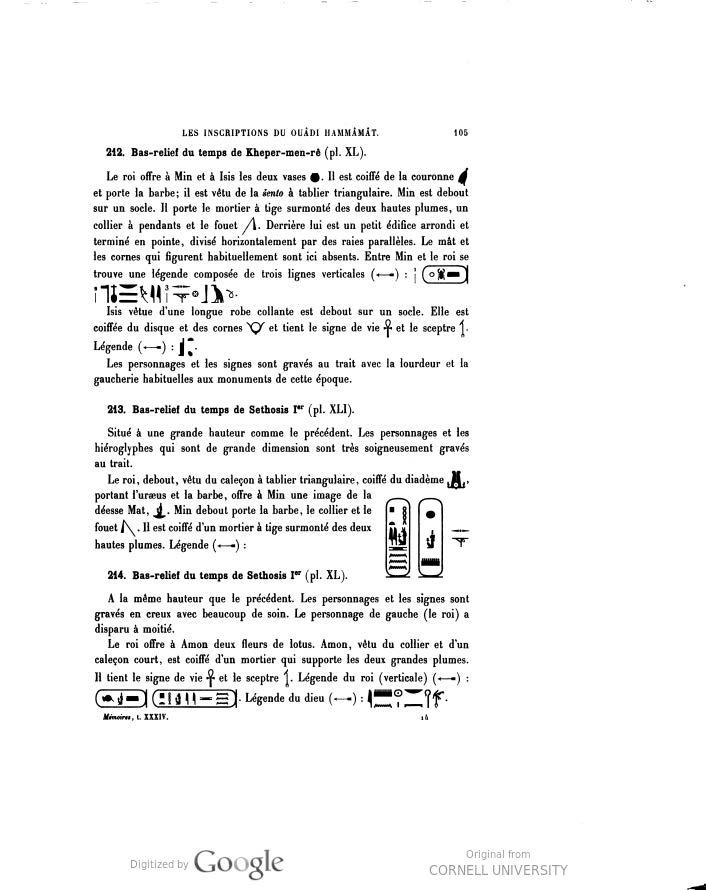circle: (148, 676, 250, 721), (416, 488, 446, 589), (384, 495, 412, 583), (93, 676, 150, 718), (419, 259, 480, 296)
